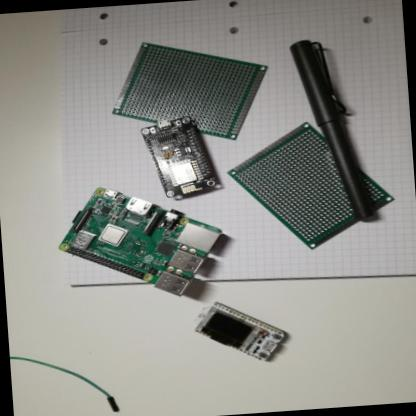ESP8266: (142, 112, 221, 203)
Heltec_ESP32_Lora: (191, 296, 290, 370)
Raspberry_Pi_3: (55, 179, 231, 306)
